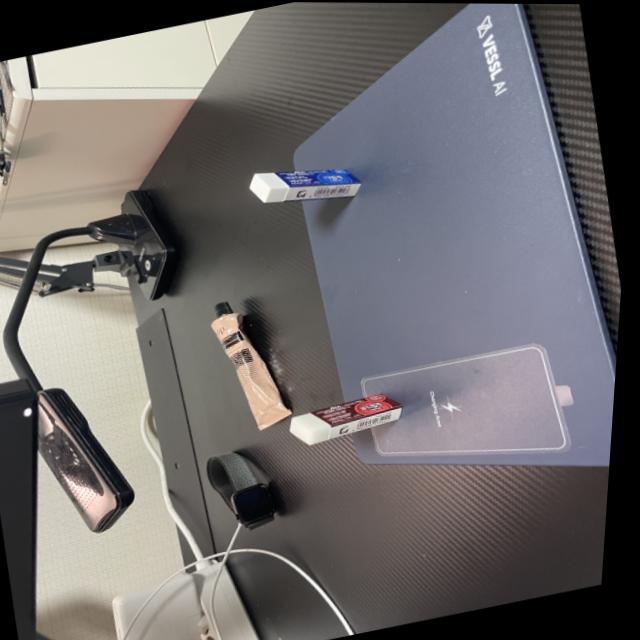blue: (234, 138, 393, 222)
red: (272, 371, 427, 457)
